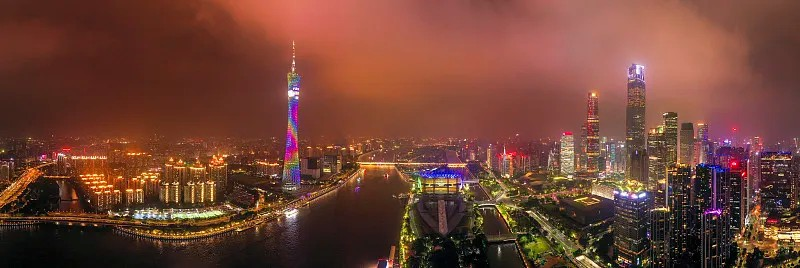Canton: (281, 40, 301, 195)
